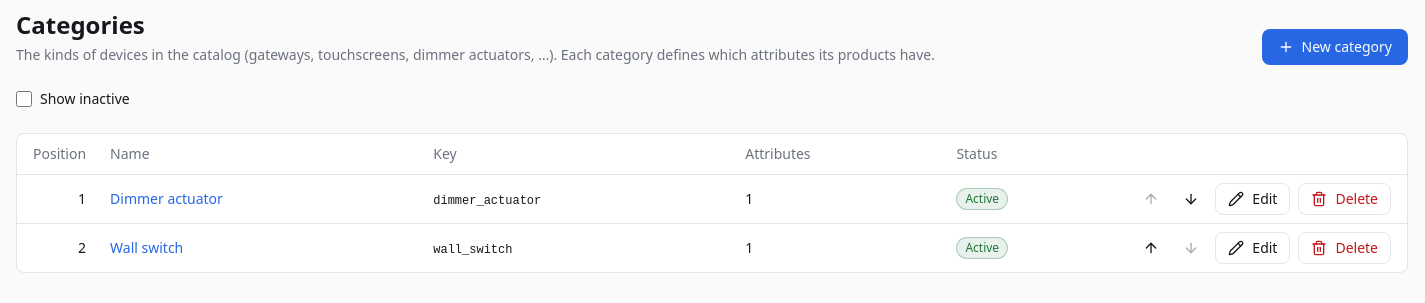
Test: CategoriesPage › sends nothing when the visible neighbour is gone from the fresh list
The image size is (1425, 303).
Click the button named "Move Dimmer actuator down". click: (1191, 199)
box: [1175,183,1207,215]
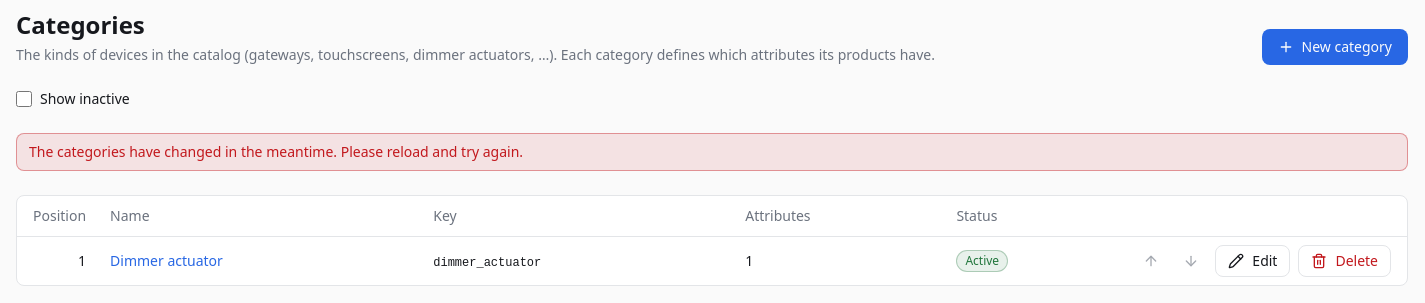
Expected: the message shows "The categories have changed in the meantime.", [29,142,523,161]
Expected: the link "Wall switch" is gone
